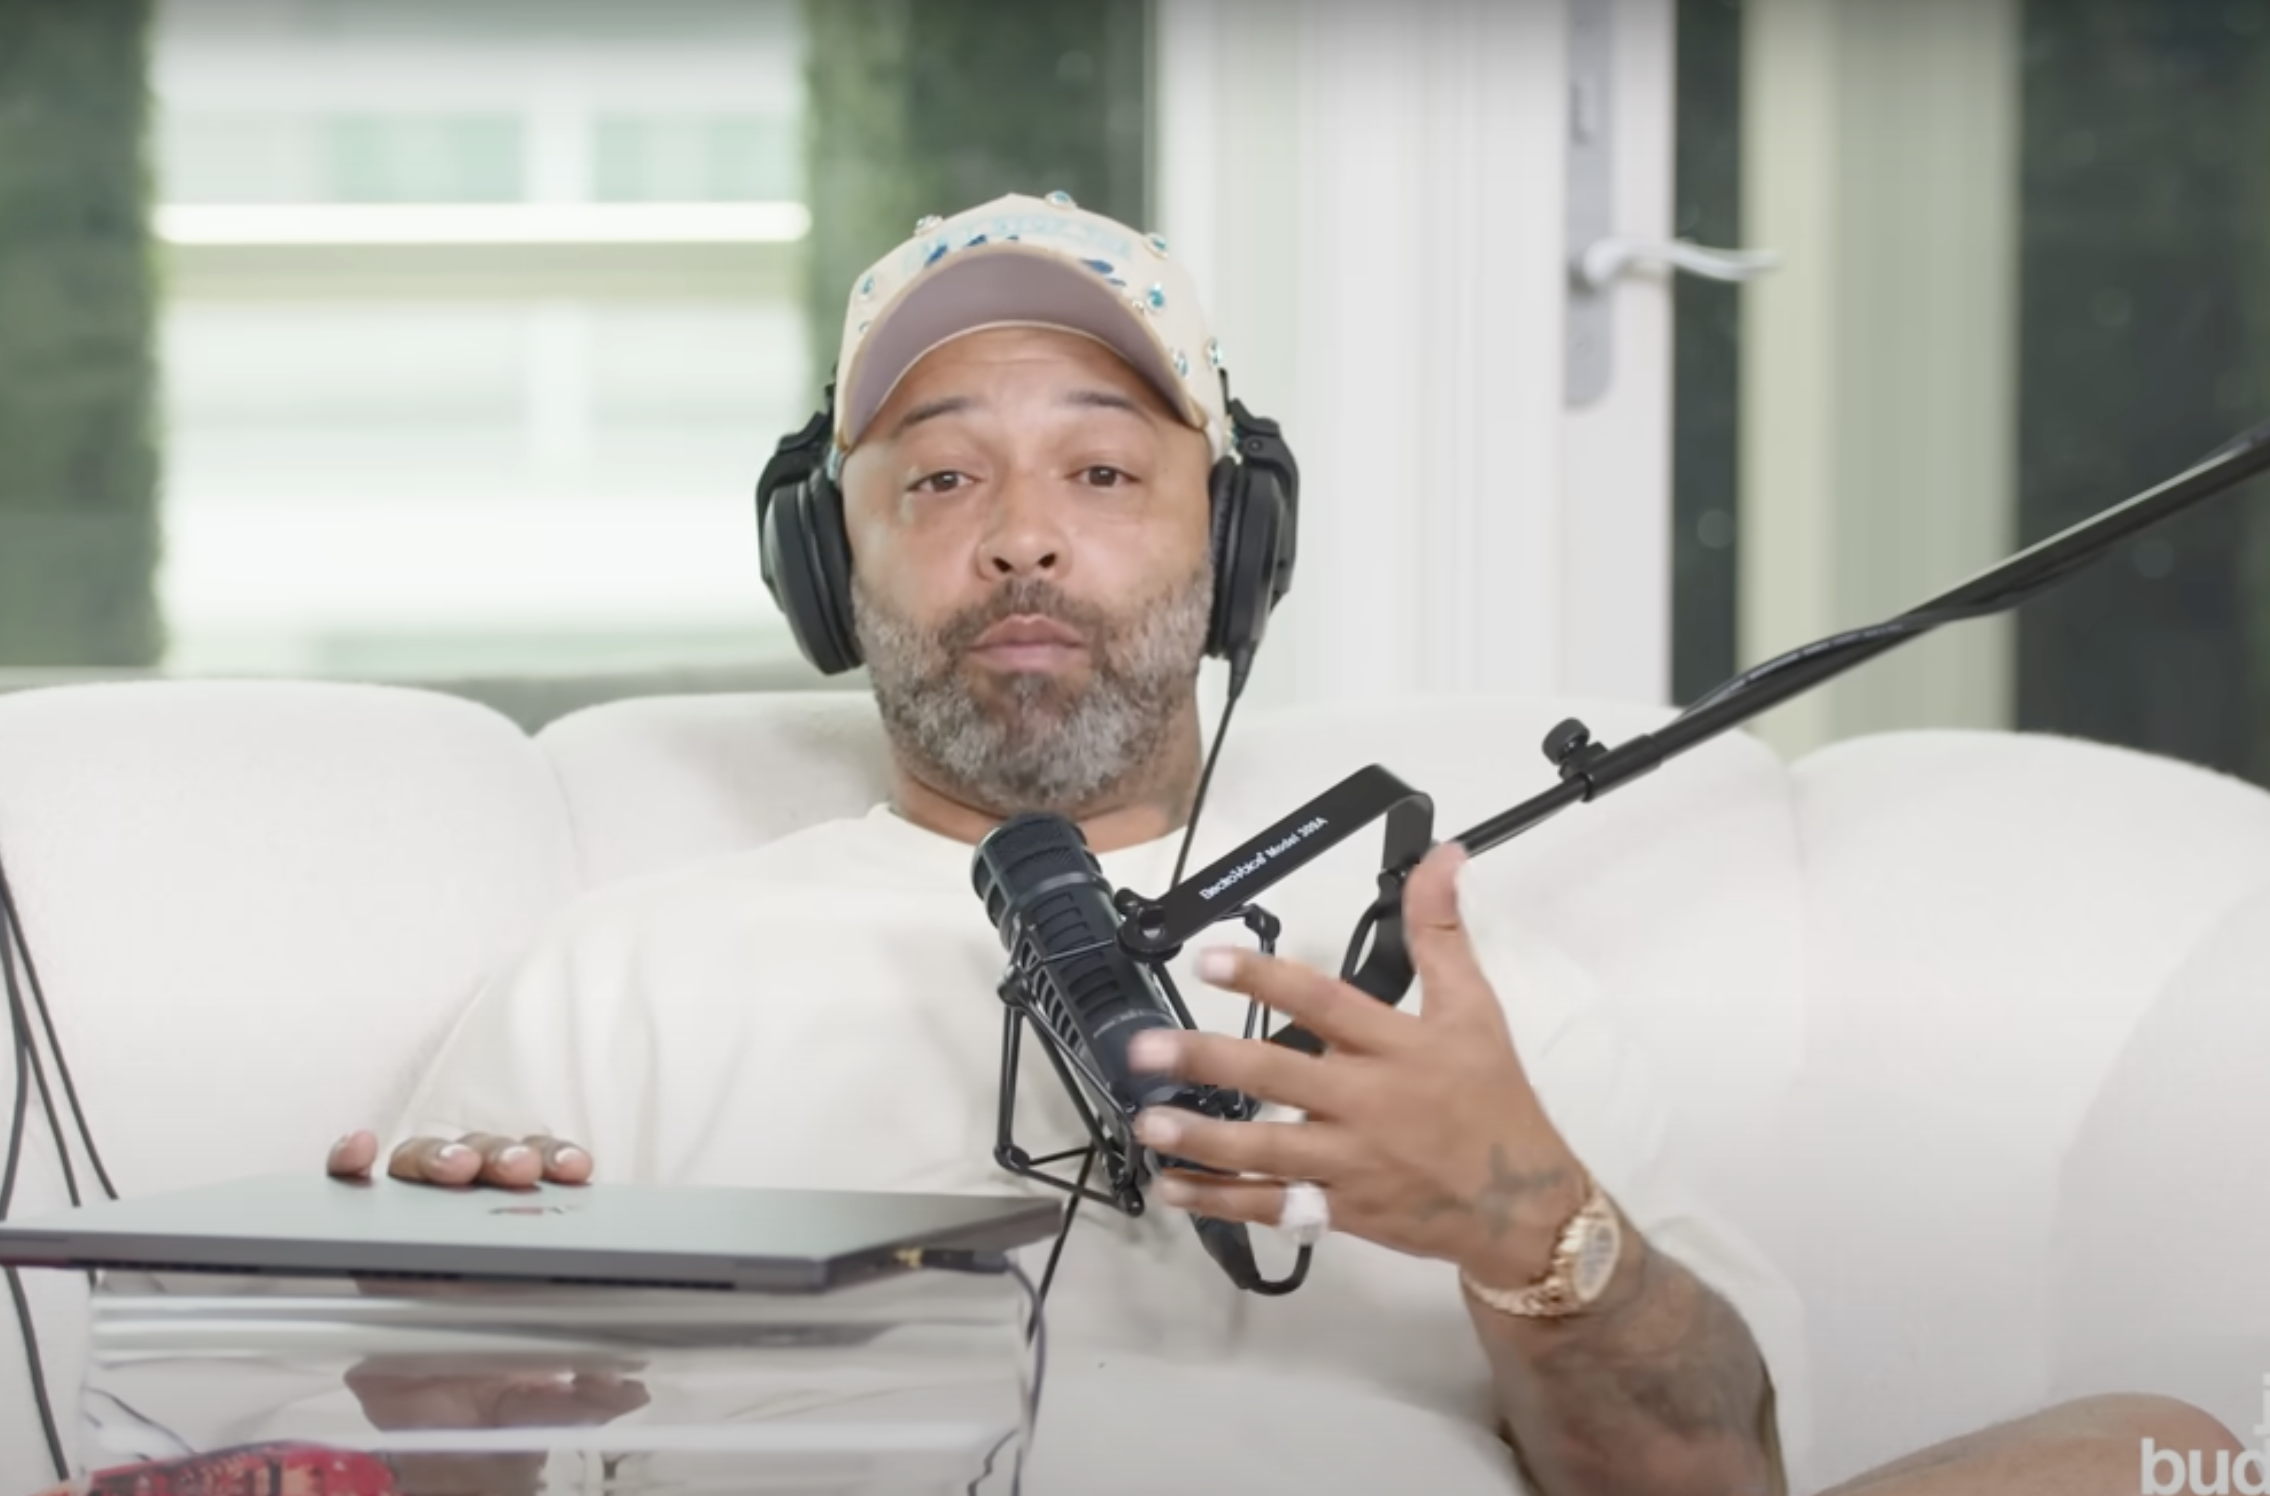person: (324, 186, 1806, 1488)
